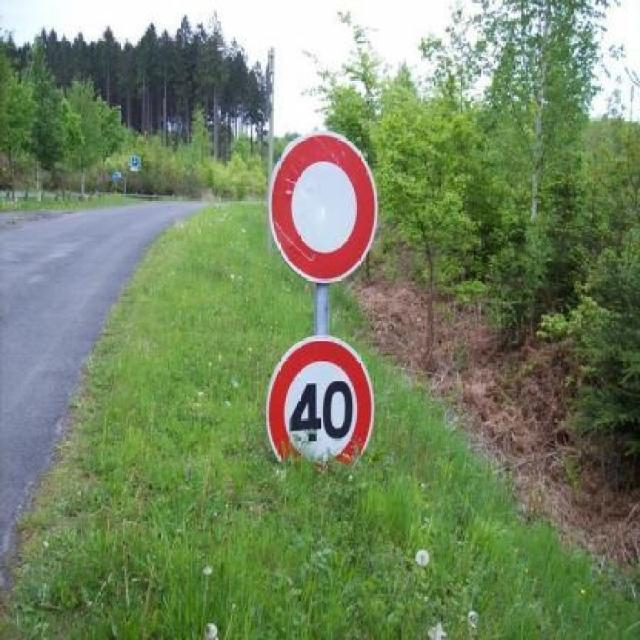forb_speed_over_40: (268, 335, 372, 461)
